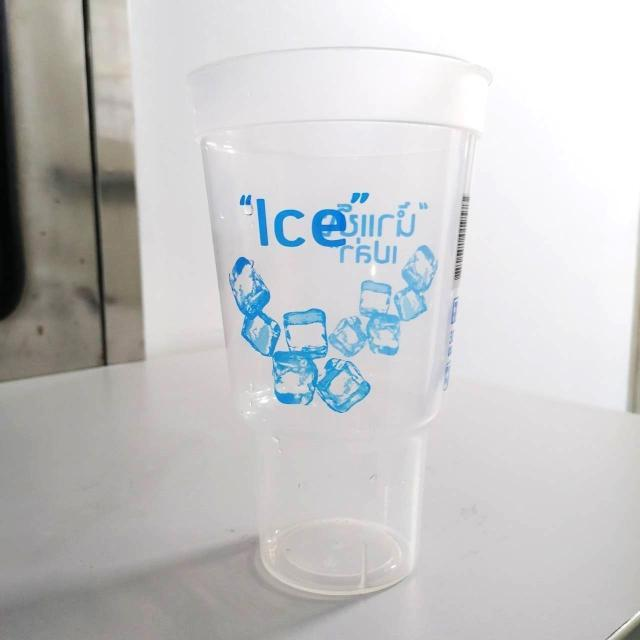Plastico descartable: (185, 46, 492, 606)
